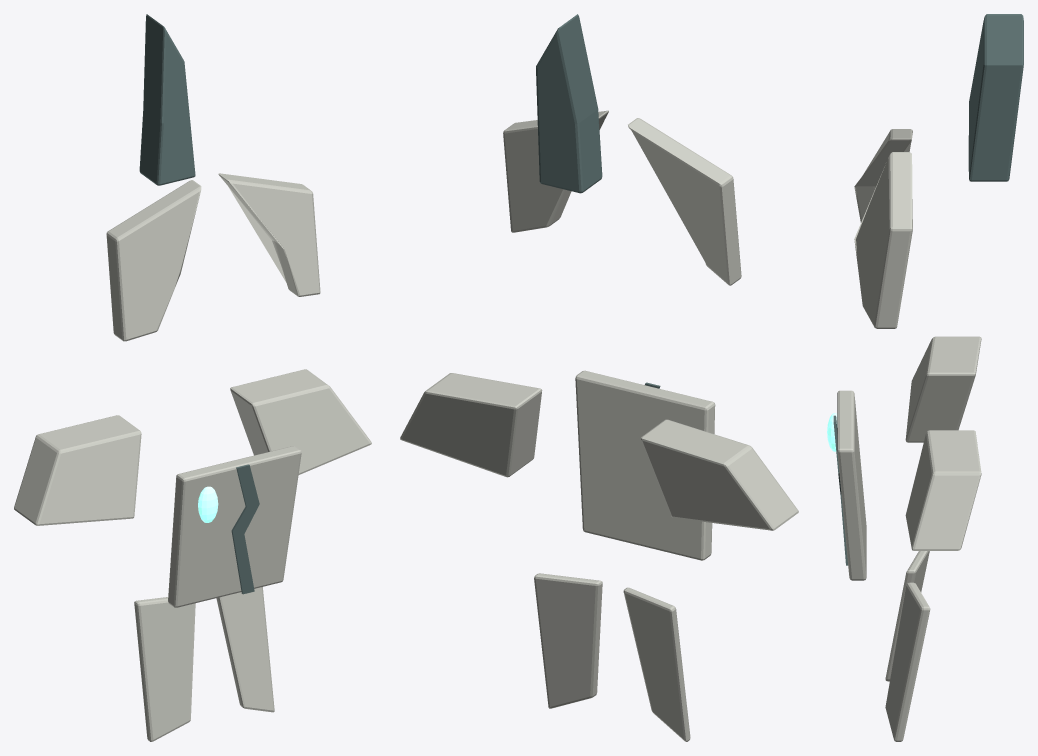
The model's file is oath-remnant-v1.glb.
The picture shows the model from 3 angles, left to right: view 1: azimuth 30°, elevation 25°; view 2: azimuth 150°, elevation 25°; view 3: azimuth 270°, elevation 25°; orthographic projection. The views are drawn at different scales.
Visible parts, largest first — view 1: Split oath plate, Oath pauldron, Broken visor, Oath pauldron.001, Return tabard, High broken crest, Broken visor.001, Return tabard.001, Visible fracture, Oath seal; view 2: Split oath plate, Oath pauldron, Oath pauldron.001, High broken crest, Broken visor, Return tabard.001, Return tabard, Broken visor.001; view 3: High broken crest, Broken visor.001, Oath pauldron.001, Oath pauldron, Split oath plate, Return tabard.001, Broken visor, Return tabard, Visible fracture.
Part boxes in pixels (bbox=[...]): Split oath plate: bbox=[168, 446, 301, 607]; Oath pauldron: bbox=[14, 415, 141, 525]; Broken visor: bbox=[106, 180, 201, 341]; Oath pauldron.001: bbox=[230, 369, 371, 474]; Return tabard: bbox=[134, 597, 195, 741]; High broken crest: bbox=[139, 14, 195, 185]; Broken visor.001: bbox=[218, 173, 320, 296]; Return tabard.001: bbox=[216, 587, 274, 712]; Visible fracture: bbox=[231, 464, 259, 594]; Oath seal: bbox=[198, 486, 218, 522]; Split oath plate: bbox=[575, 370, 715, 560]; Oath pauldron: bbox=[641, 419, 798, 530]; Oath pauldron.001: bbox=[400, 373, 542, 477]; High broken crest: bbox=[536, 14, 602, 193]; Broken visor: bbox=[628, 118, 741, 285]; Return tabard.001: bbox=[534, 573, 602, 708]; Return tabard: bbox=[623, 587, 690, 741]; Broken visor.001: bbox=[503, 110, 608, 232]; High broken crest: bbox=[968, 14, 1023, 181]; Broken visor.001: bbox=[854, 152, 912, 328]; Oath pauldron.001: bbox=[905, 430, 981, 550]; Oath pauldron: bbox=[905, 336, 981, 442]; Split oath plate: bbox=[837, 390, 866, 580]; Return tabard.001: bbox=[885, 582, 930, 741]; Broken visor: bbox=[854, 129, 912, 222]; Return tabard: bbox=[885, 551, 929, 681]; Visible fracture: bbox=[833, 415, 848, 565].
Size of the model in its own units: 1.29 by 2.46 by 0.6327.
